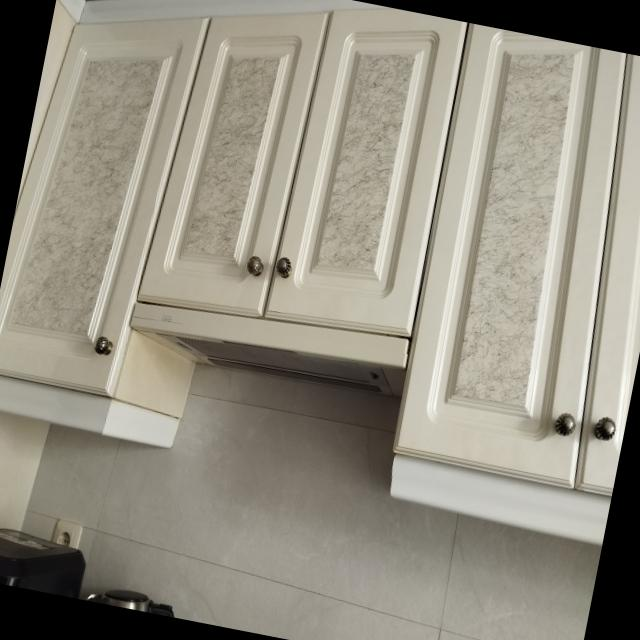cabinet: (390, 24, 640, 547), (138, 7, 471, 339), (0, 20, 203, 450)
